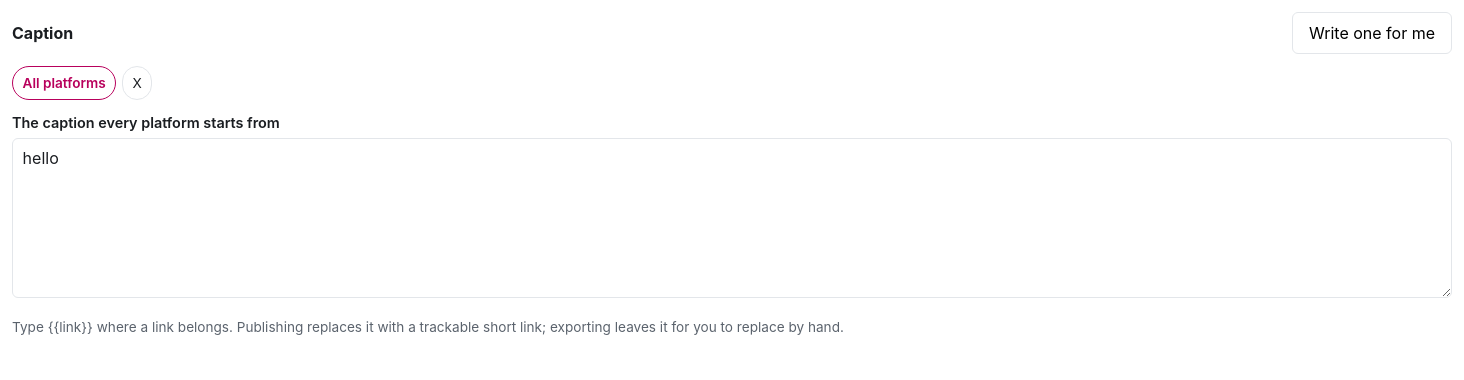
Scenario: CaptionPanel › takes the limit from the server, not from a constant in the bundle
The width and height of the screenshot is (1464, 380).
Step 1. Click the tab "X" → (137, 83), box [122,66,152,100]
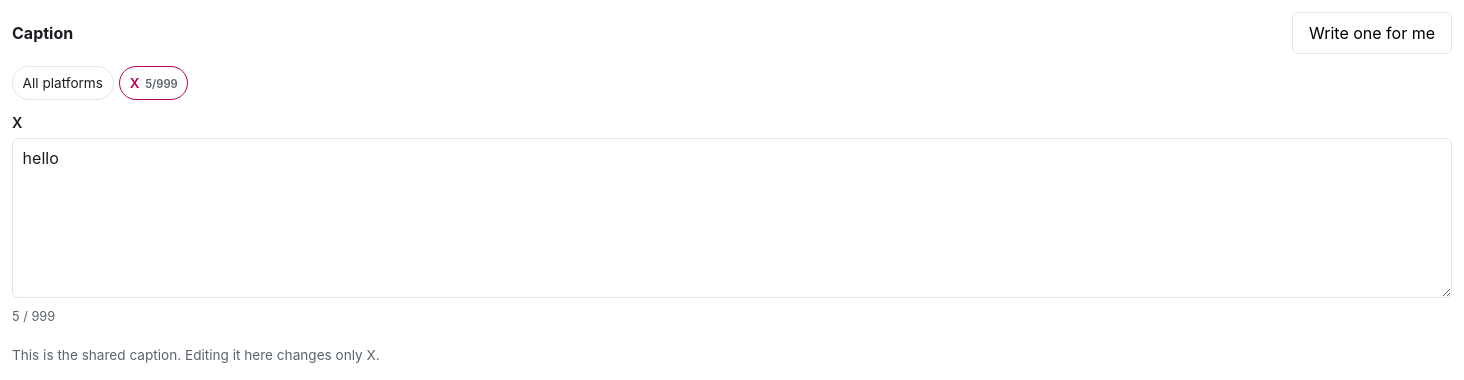
expect the text "5 / 999" is shown: met, box [12,309,55,324]
